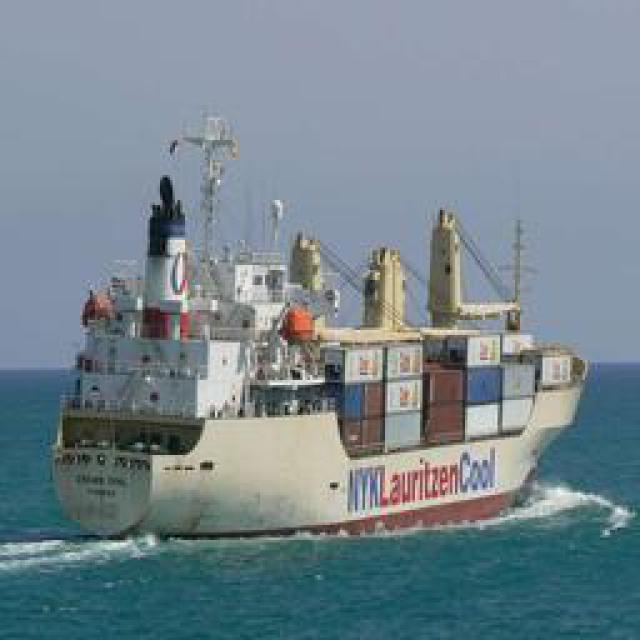Ship: (55, 125, 600, 538)
